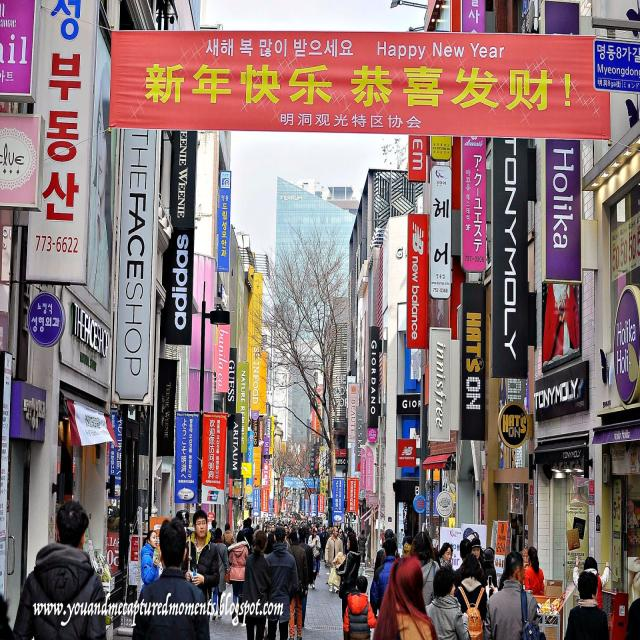body: (9, 496, 108, 640), (132, 517, 210, 639), (89, 52, 116, 306), (372, 555, 440, 640), (180, 509, 221, 630), (486, 550, 540, 640), (540, 253, 582, 366), (264, 525, 300, 639), (236, 530, 272, 640), (562, 570, 611, 640), (424, 567, 470, 640), (332, 532, 362, 640), (454, 552, 488, 639), (408, 529, 441, 609), (370, 537, 401, 621), (287, 530, 309, 640), (572, 555, 612, 612), (342, 575, 377, 640), (226, 529, 248, 623), (453, 537, 487, 592), (211, 527, 230, 621), (298, 527, 314, 628), (252, 508, 319, 531), (172, 503, 194, 573), (324, 526, 344, 594), (626, 550, 640, 640), (140, 529, 160, 586), (524, 546, 544, 596), (374, 528, 394, 576), (480, 548, 498, 599), (422, 518, 441, 566), (307, 526, 321, 589), (485, 572, 510, 602), (402, 502, 414, 554), (106, 496, 122, 534), (0, 589, 12, 639), (344, 503, 370, 523), (315, 523, 324, 576), (438, 541, 454, 570), (357, 529, 368, 564), (263, 530, 276, 558), (344, 526, 356, 556), (411, 348, 422, 379), (222, 521, 235, 547), (393, 525, 403, 557), (231, 516, 243, 542), (462, 526, 481, 542), (364, 525, 371, 568), (242, 519, 252, 546), (338, 528, 347, 558), (319, 519, 334, 537), (514, 514, 522, 545), (242, 517, 255, 535), (320, 536, 327, 569), (410, 427, 420, 448), (283, 524, 291, 550), (209, 519, 219, 539), (342, 524, 348, 555), (352, 523, 361, 543), (334, 438, 346, 449), (304, 530, 312, 546), (284, 530, 290, 550), (286, 501, 298, 508), (247, 504, 252, 520), (478, 517, 486, 526), (372, 516, 378, 528), (310, 488, 320, 495), (296, 531, 300, 545), (381, 415, 386, 424), (335, 524, 339, 532), (292, 526, 296, 532)
